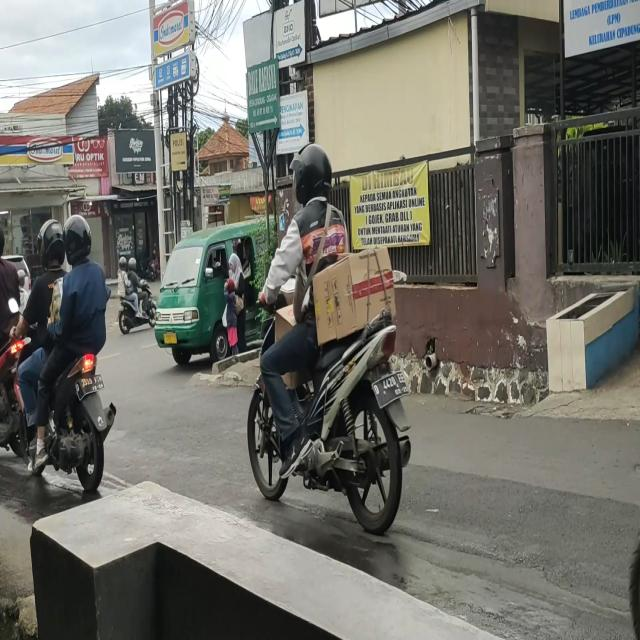helmet: (293, 147, 329, 202), (36, 217, 64, 273), (64, 217, 94, 265), (116, 256, 128, 277), (130, 260, 136, 274)
